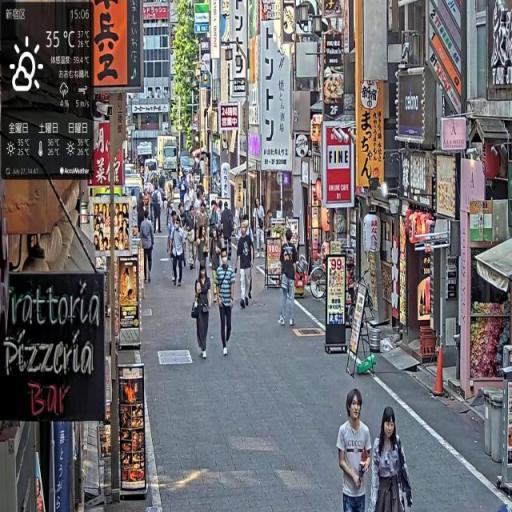person: (372, 405, 416, 512), (337, 388, 374, 512), (215, 250, 237, 359), (193, 265, 213, 363), (236, 222, 257, 309), (169, 215, 187, 289), (141, 211, 156, 285), (152, 181, 165, 235)
